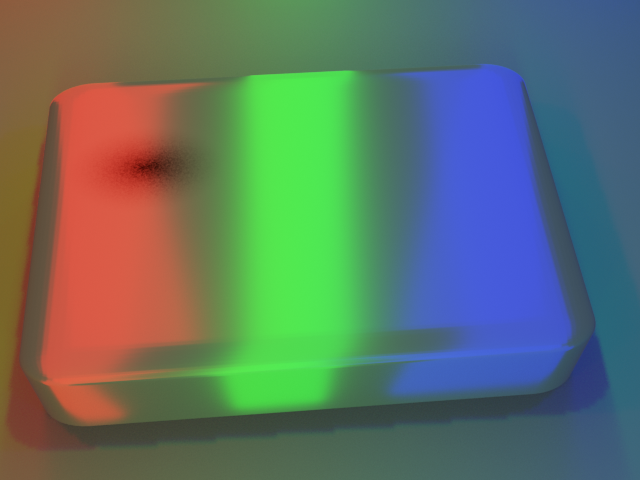stain: (11, 95, 242, 222)
